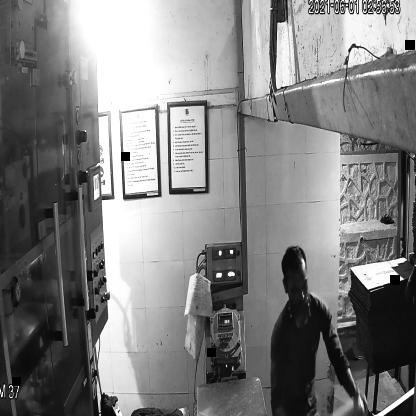no_goggles: (281, 274, 311, 298)
